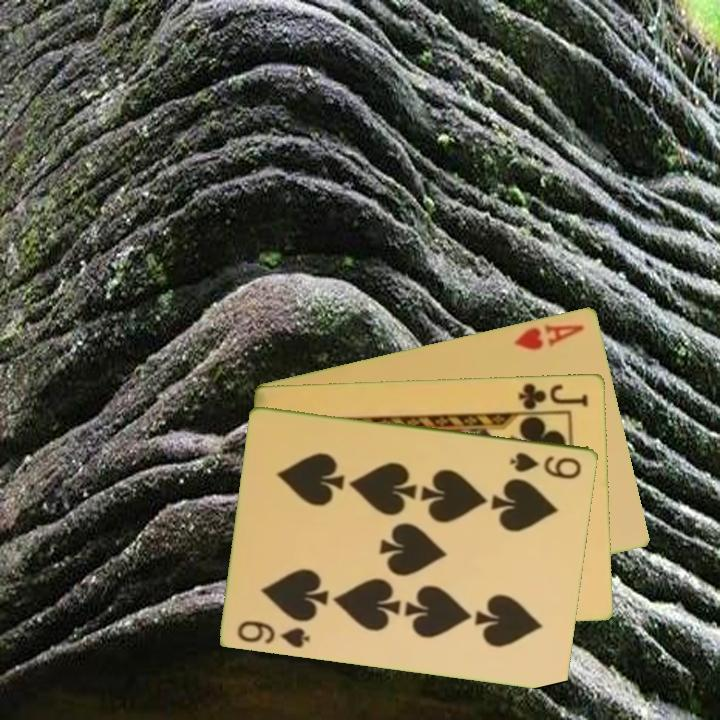9s: (234, 616, 313, 651), (506, 448, 585, 482)
Ah: (510, 320, 587, 353)
Jc: (515, 379, 591, 412)
